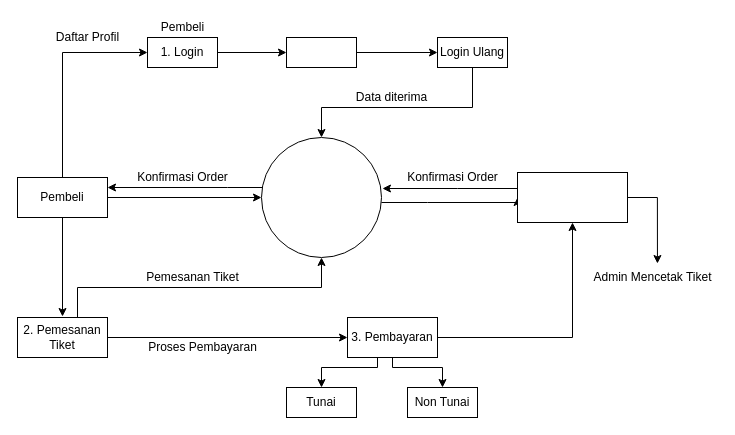
Some shapes in this 735 by 435 pixel diagram are drawn without their labels. The centre of each missing label's shape, as x and y in pixels:
"Admin Tiket Bus" goes at [572,197].
"Penjualan Tiket Bus" goes at [321,197].
"Verifikasi" goes at [321,52].
